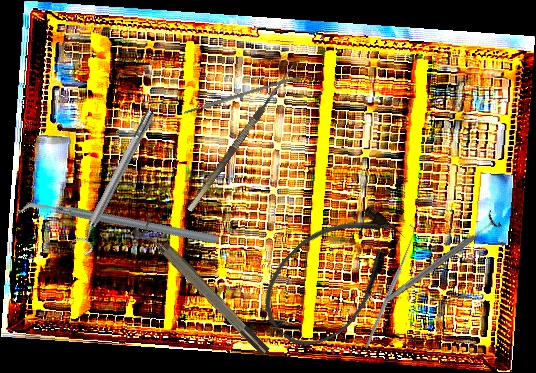Cannula: (245, 187, 422, 364)
Chopper: (15, 133, 222, 316)
Fixation Ring: (130, 214, 273, 364), (66, 106, 164, 258), (381, 209, 503, 309)
Hook Surgical: (178, 54, 300, 213), (322, 223, 456, 350)
Scalpel Handle: (181, 73, 303, 116)
